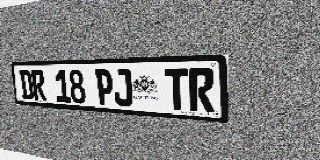1: (54, 70, 71, 103)
8: (68, 69, 86, 104)
D: (19, 70, 34, 100)
J: (112, 69, 133, 107)
P: (95, 69, 114, 106)
R: (189, 68, 214, 113), (31, 70, 47, 101)
T: (165, 68, 189, 111)
